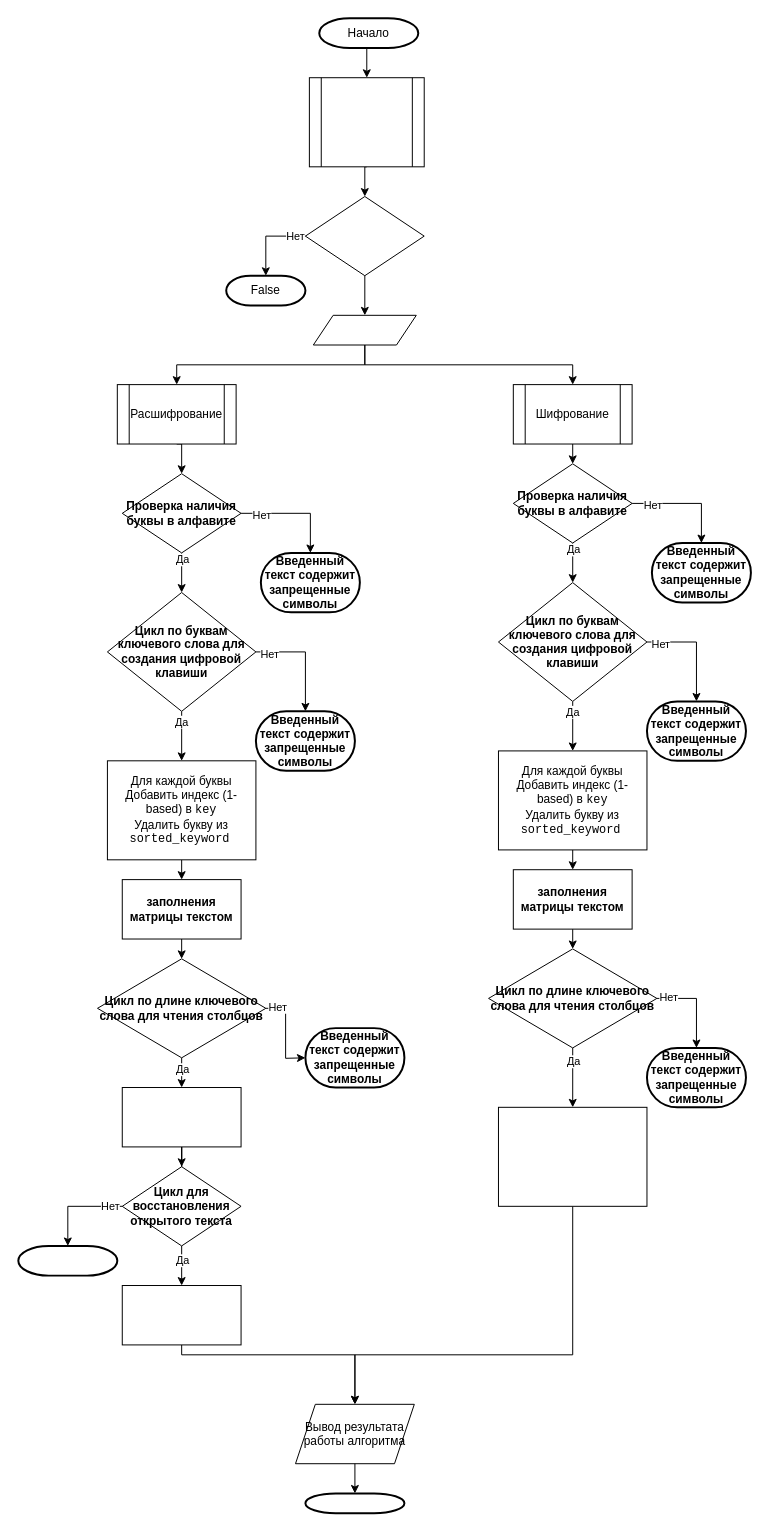
This 768x1531 diagram has some shape labels left out. Here are the shapes that lost their labels. From the top down, the box of each, then its label:
(308, 77, 424, 167): Получение подготовленного текста, ключевого слова и алфавита
(304, 196, 424, 276): Все символы ключа содержаться в алфавите
(312, 314, 416, 345): Вывод True
(121, 1087, 241, 1147): Заполнение столбцов строками соответствующей длины
(497, 1106, 647, 1206): Для каждой строки: Заполнение encrypted_text_array по ключу
(17, 1244, 118, 1276): Ошибка
(121, 1285, 241, 1345): Для каждого ряда: Считывание символов по столбцам
(304, 1492, 405, 1514): Конец работы
